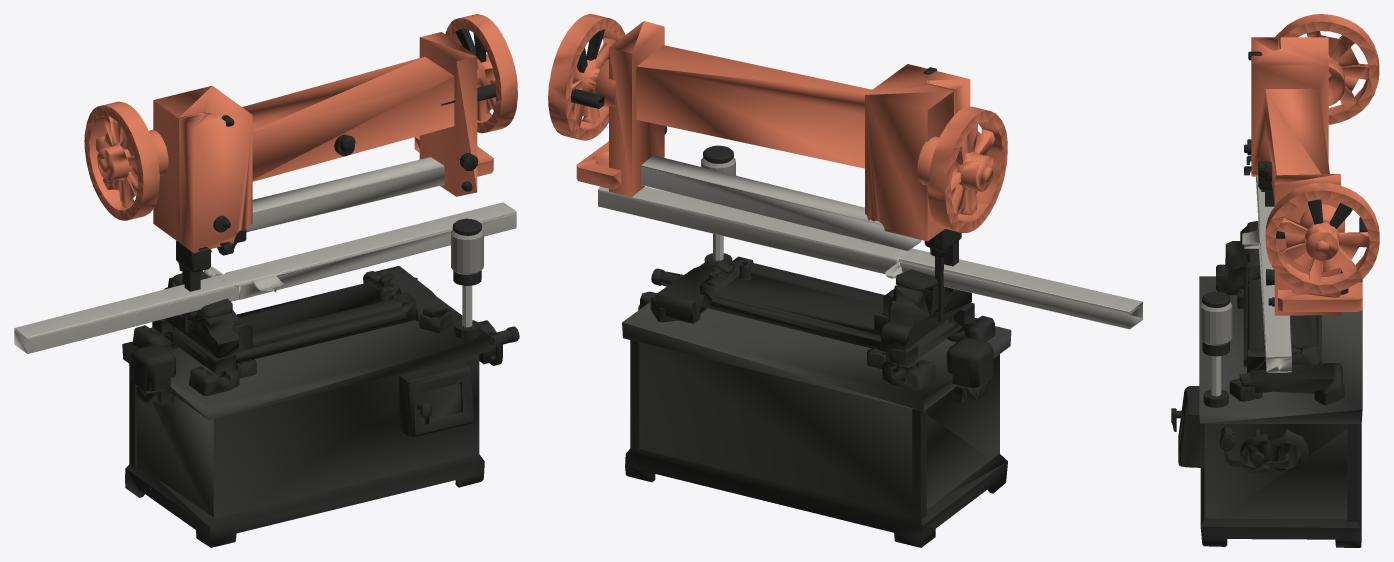
File: cutter.glb
The picture shows the model from 3 angles, left to right: view 1: azimuth 30°, elevation 25°; view 2: azimuth 150°, elevation 25°; view 3: azimuth 270°, elevation 25°; orthographic projection. The views are drawn at different scales.
Visible parts, largest first — view 1: cutter_parts, head_parts; view 2: cutter_parts, head_parts; view 3: cutter_parts, head_parts.
Part boxes in pixels (bbox=[...]): cutter_parts: bbox=[14, 202, 519, 547]; head_parts: bbox=[84, 14, 517, 272]; cutter_parts: bbox=[598, 145, 1142, 547]; head_parts: bbox=[548, 14, 1007, 251]; cutter_parts: bbox=[1171, 176, 1362, 547]; head_parts: bbox=[1244, 14, 1379, 315].
Bounding box in the file's own units: 2.47 × 1.87 × 0.9103.
